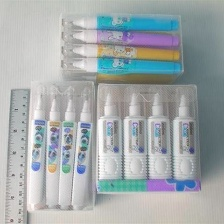correction_fluid: (119, 83, 150, 192), (143, 83, 173, 191), (68, 86, 94, 210), (171, 84, 200, 193), (96, 83, 123, 193), (55, 85, 78, 210), (26, 81, 48, 211), (59, 27, 181, 50), (42, 84, 63, 208), (60, 42, 181, 63), (60, 56, 183, 75), (59, 13, 180, 32), (61, 69, 177, 83)
plastic_box: (93, 80, 203, 196), (56, 9, 186, 85)
